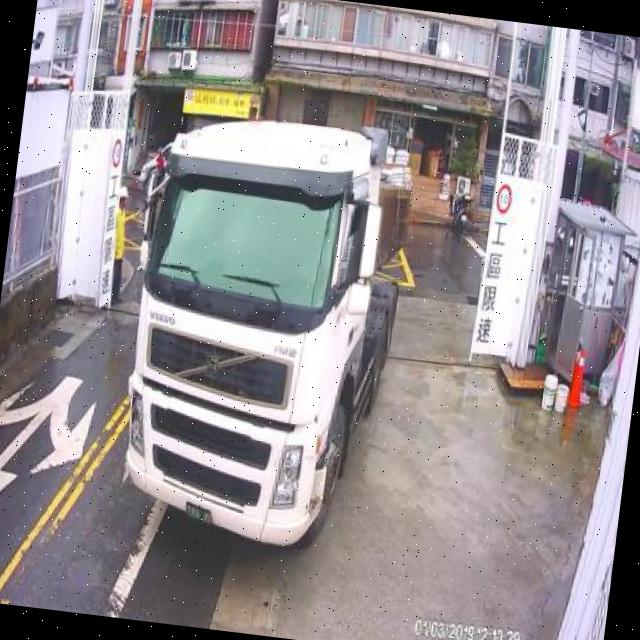Dump Truck: (103, 95, 421, 562)
